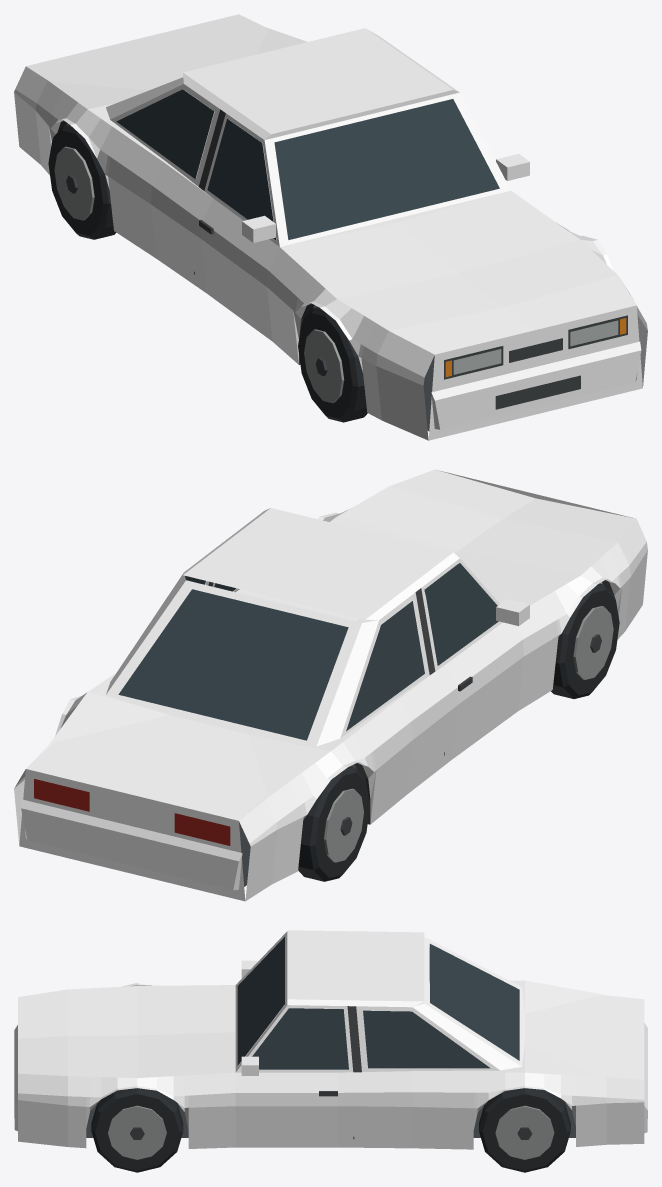
Rendered from ashcombe_quill.glb.
3 views of the same model, one above another, from view 1: azimuth 30°, elevation 25°; view 2: azimuth 150°, elevation 25°; view 3: azimuth 270°, elevation 25° (orthographic). The views are drawn at different scales.
Parts seen in each view (by area): view 1: ashcombe_quill; view 2: ashcombe_quill; view 3: ashcombe_quill.
Boxes of the visible parts, box(x1,y1,x2,y2) form: ashcombe_quill: box(14, 14, 647, 440); ashcombe_quill: box(14, 469, 647, 901); ashcombe_quill: box(14, 930, 647, 1172).
Size of the model in its own units: 1.71 by 1.2 by 4.35.
8 materials, 1 textured.
